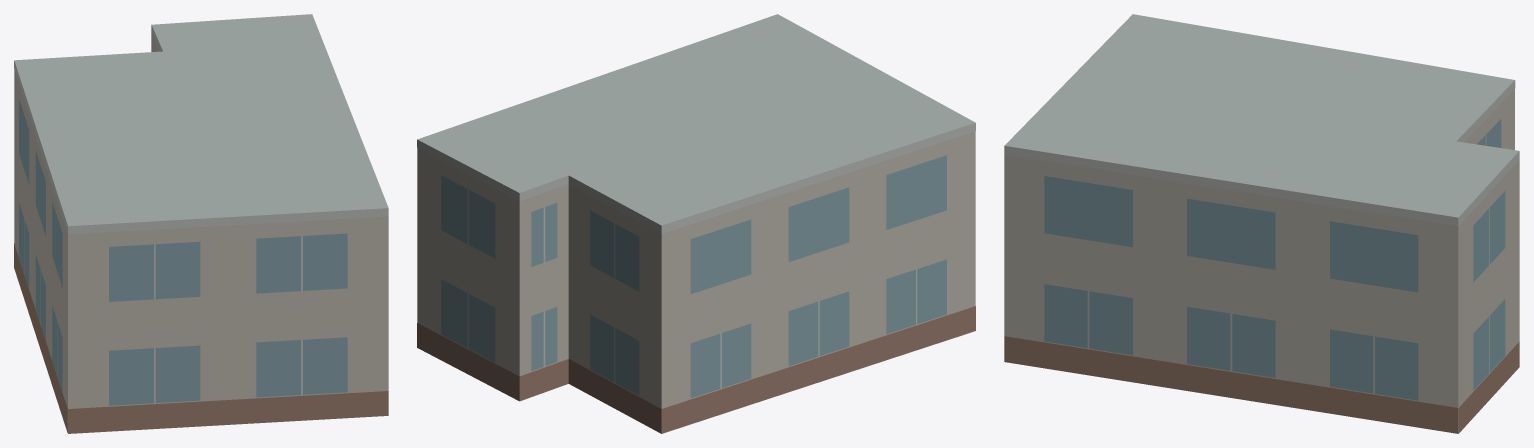
File: survey-upis-32949384.glb
3 views of the same model, side by side, from view 1: azimuth 30°, elevation 25°; view 2: azimuth 150°, elevation 25°; view 3: azimuth 270°, elevation 25° (orthographic). The views are drawn at different scales.
Visible parts, largest first — view 1: survey-upis-32949384.tmp; view 2: survey-upis-32949384.tmp; view 3: survey-upis-32949384.tmp.
Part boxes in pixels (x1,y1,x2,y2): survey-upis-32949384.tmp: (14,14,388,433); survey-upis-32949384.tmp: (417,14,975,433); survey-upis-32949384.tmp: (1004,14,1519,433).
Bounding box in the file's own units: 12.33 × 6.1 × 13.18.
